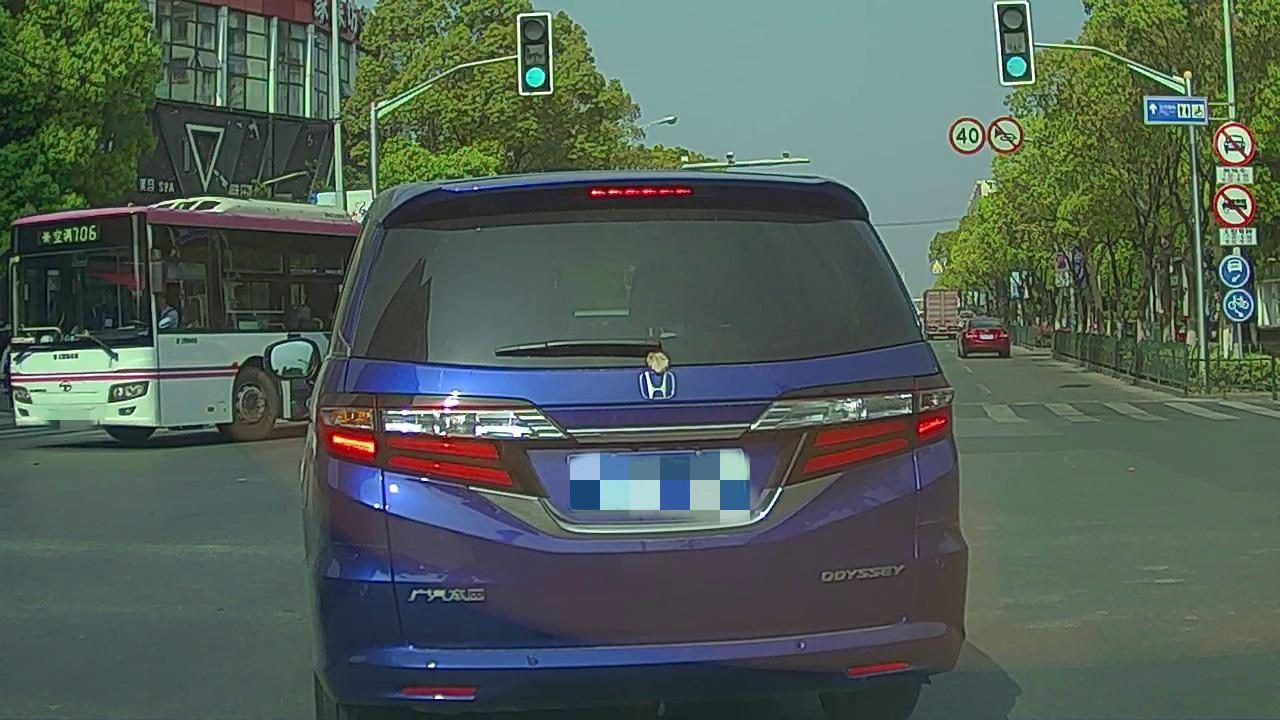traffic_light: (998, 5, 1036, 83), (520, 17, 552, 90)
